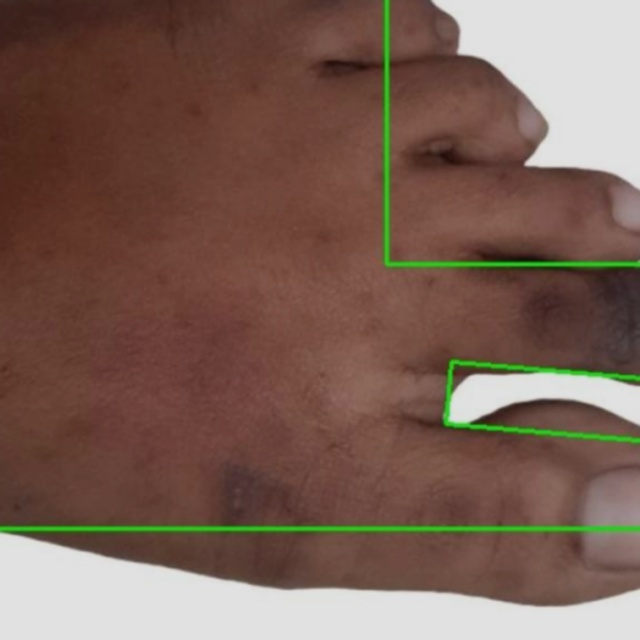Tinea Corporis: (0, 528, 639, 639), (385, 0, 639, 263), (445, 361, 639, 439)
